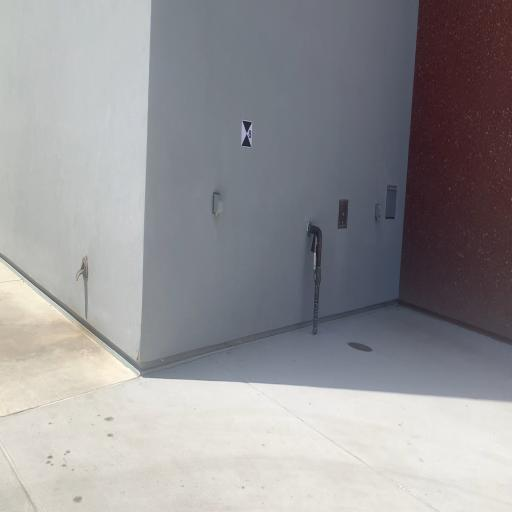target8: (242, 118, 254, 150)
